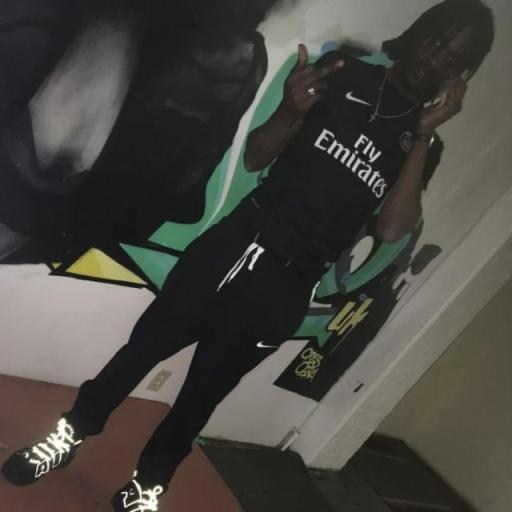Emirates: (312, 126, 389, 199)
